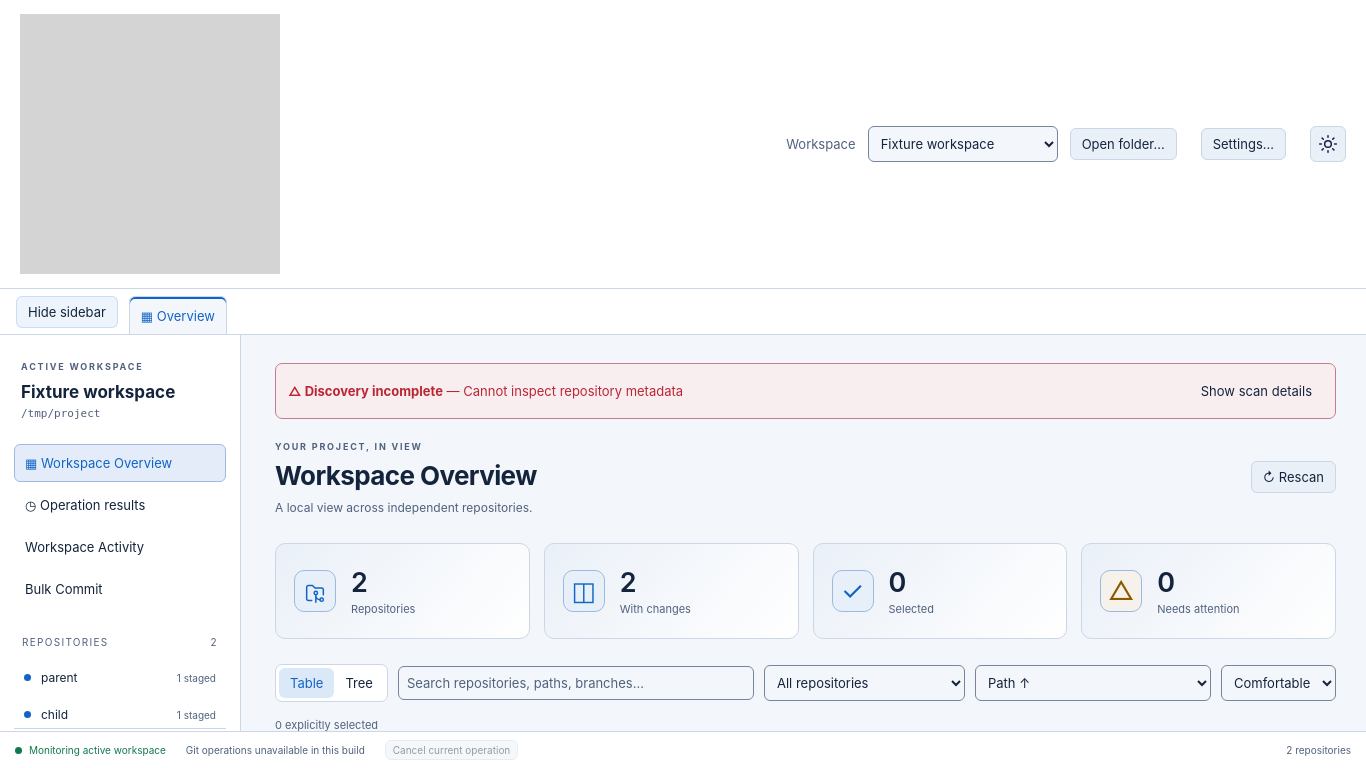
Test: shows incomplete discovery even when all known repositories are available
Expected: the message shows "Discovery incomplete", [288,383,443,399]
Expected: the message shows "Cannot inspect repository metadata", [443,383,683,399]
Click the button "Show scan details" at [1256, 391], box [1190,376,1323,406]
(page scrolled)
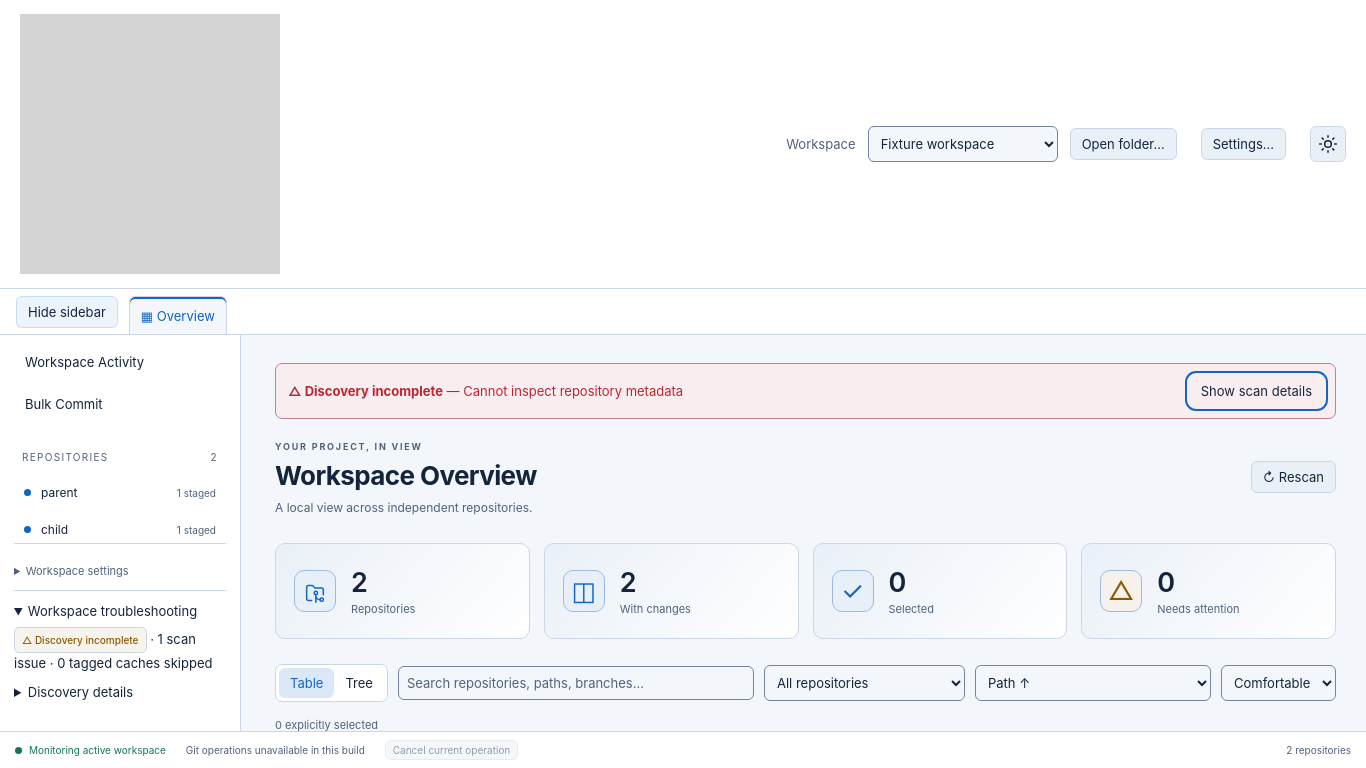
Click the heading "Discovery details" at [80, 692], box [28,684,133,700]
(page scrolled)
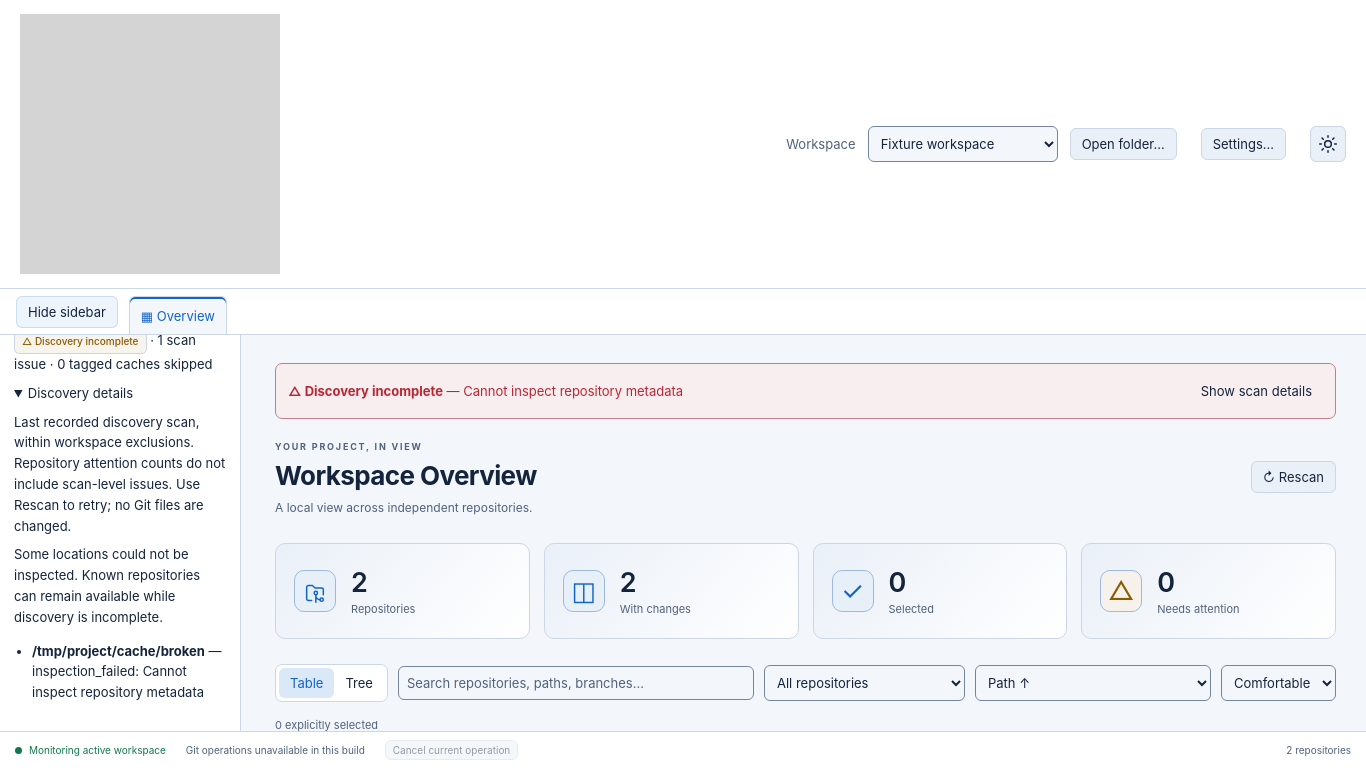
Expected: the text "/tmp/project/cache/broken" is shown, [32,643,205,659]
